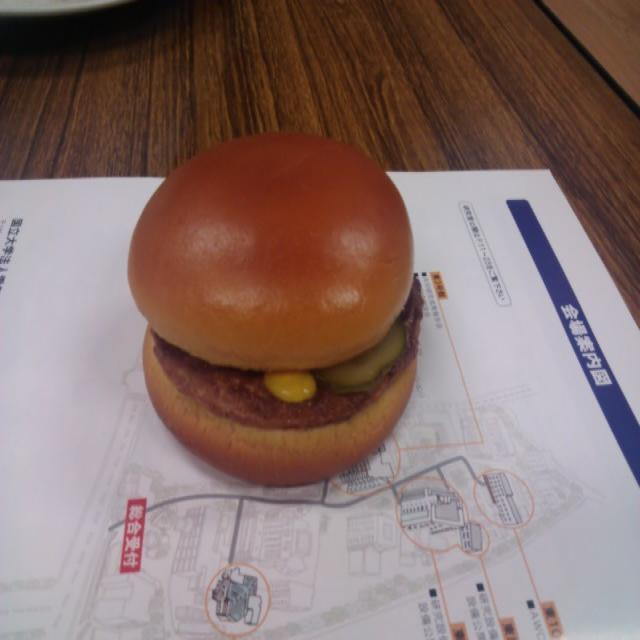Hamburger: (118, 117, 432, 494)
